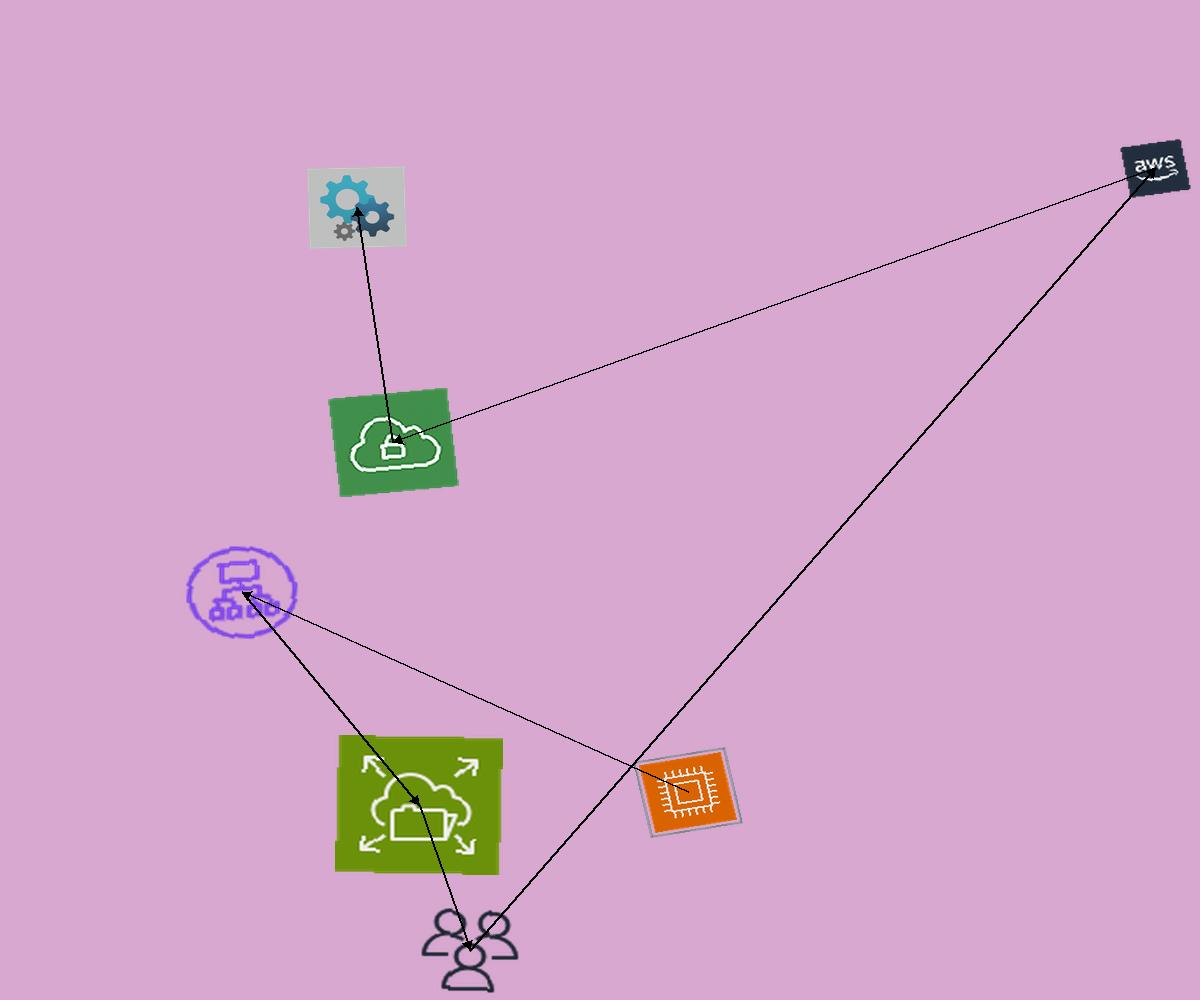AWS-Category_Compute: (633, 747, 743, 838)
AWS-Cloud-logo: (1119, 138, 1192, 199)
AWS-EFS: (335, 735, 503, 875)
AWS-Private_vpc: (327, 387, 460, 498)
AWS-Res_Elastic-Load-Balancing_Application-Load-Balancer: (174, 536, 310, 649)
AWS-Res_Users: (413, 903, 527, 998)
Azure_api: (307, 166, 407, 249)
